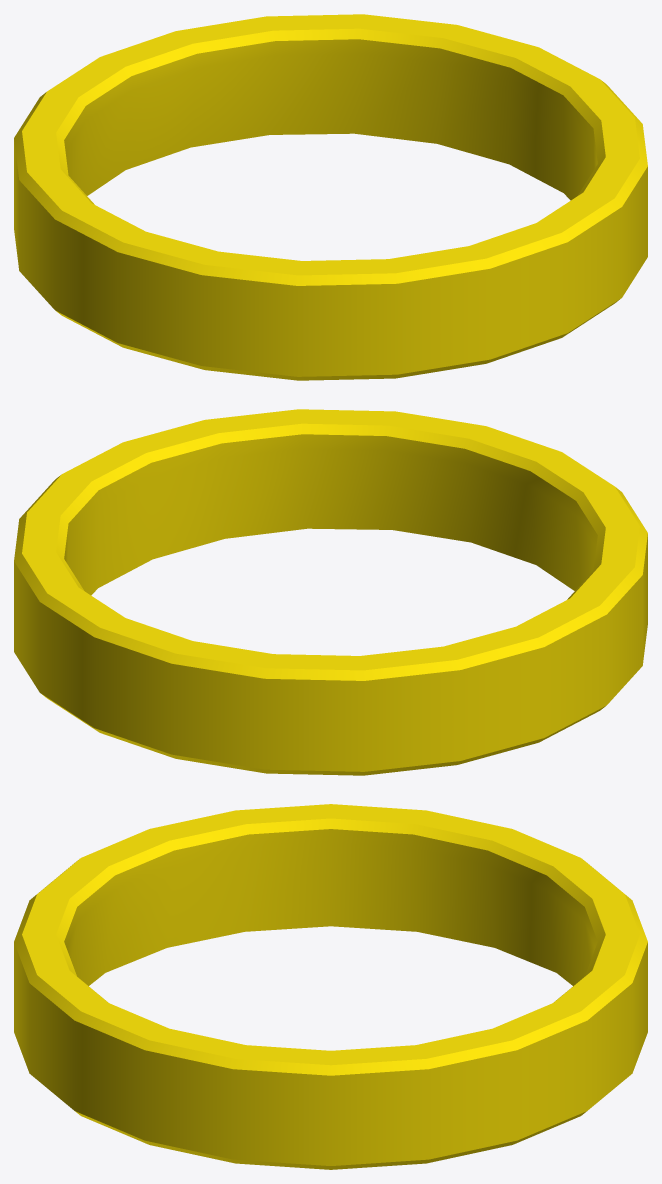
File: rings.fbx
3 views of the same model, one above another, from view 1: azimuth 30°, elevation 25°; view 2: azimuth 150°, elevation 25°; view 3: azimuth 270°, elevation 25° (orthographic).
Visible parts, largest first — view 1: rings; view 2: rings; view 3: rings.
Part boxes in pixels (<box>): rings: <box>14,14,647,380</box>; rings: <box>14,409,647,775</box>; rings: <box>14,804,647,1169</box>.
Bounding box in the file's own units: 200 × 36.44 × 200.
